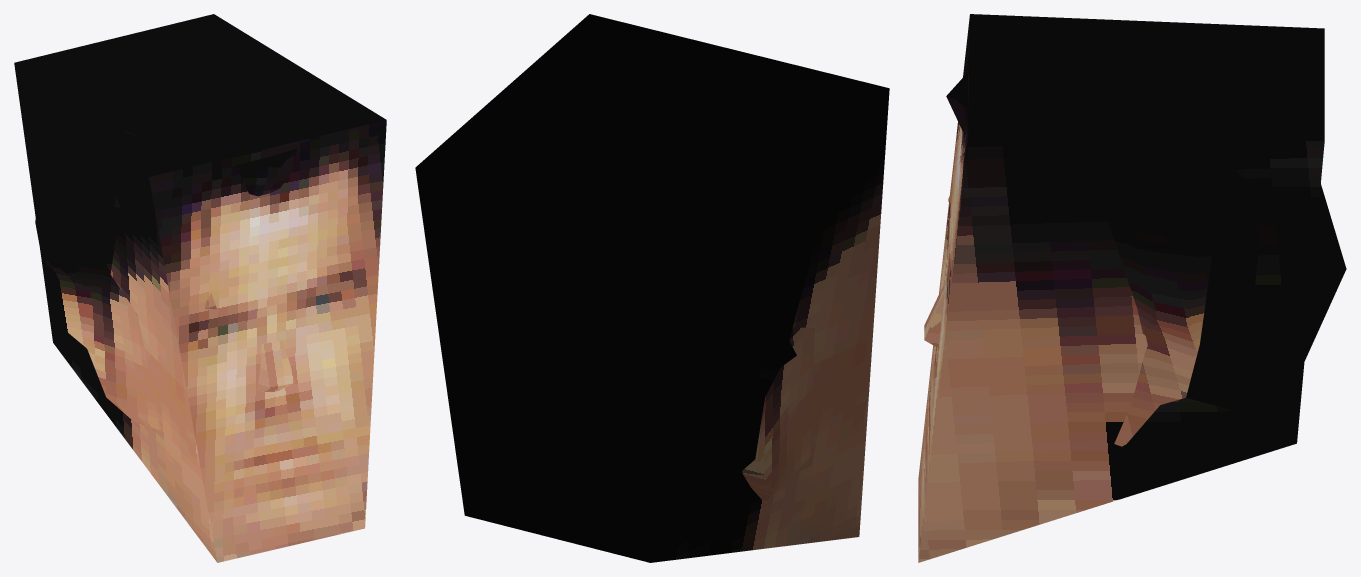
Rendered from CheadbrosnansuitZ.obj.
The picture shows the model from 3 angles, left to right: view 1: azimuth 30°, elevation 25°; view 2: azimuth 150°, elevation 25°; view 3: azimuth 270°, elevation 25°; orthographic projection. The views are drawn at different scales.
Size of the model in its own units: 168 by 258 by 216.
6 materials, 6 textured.
